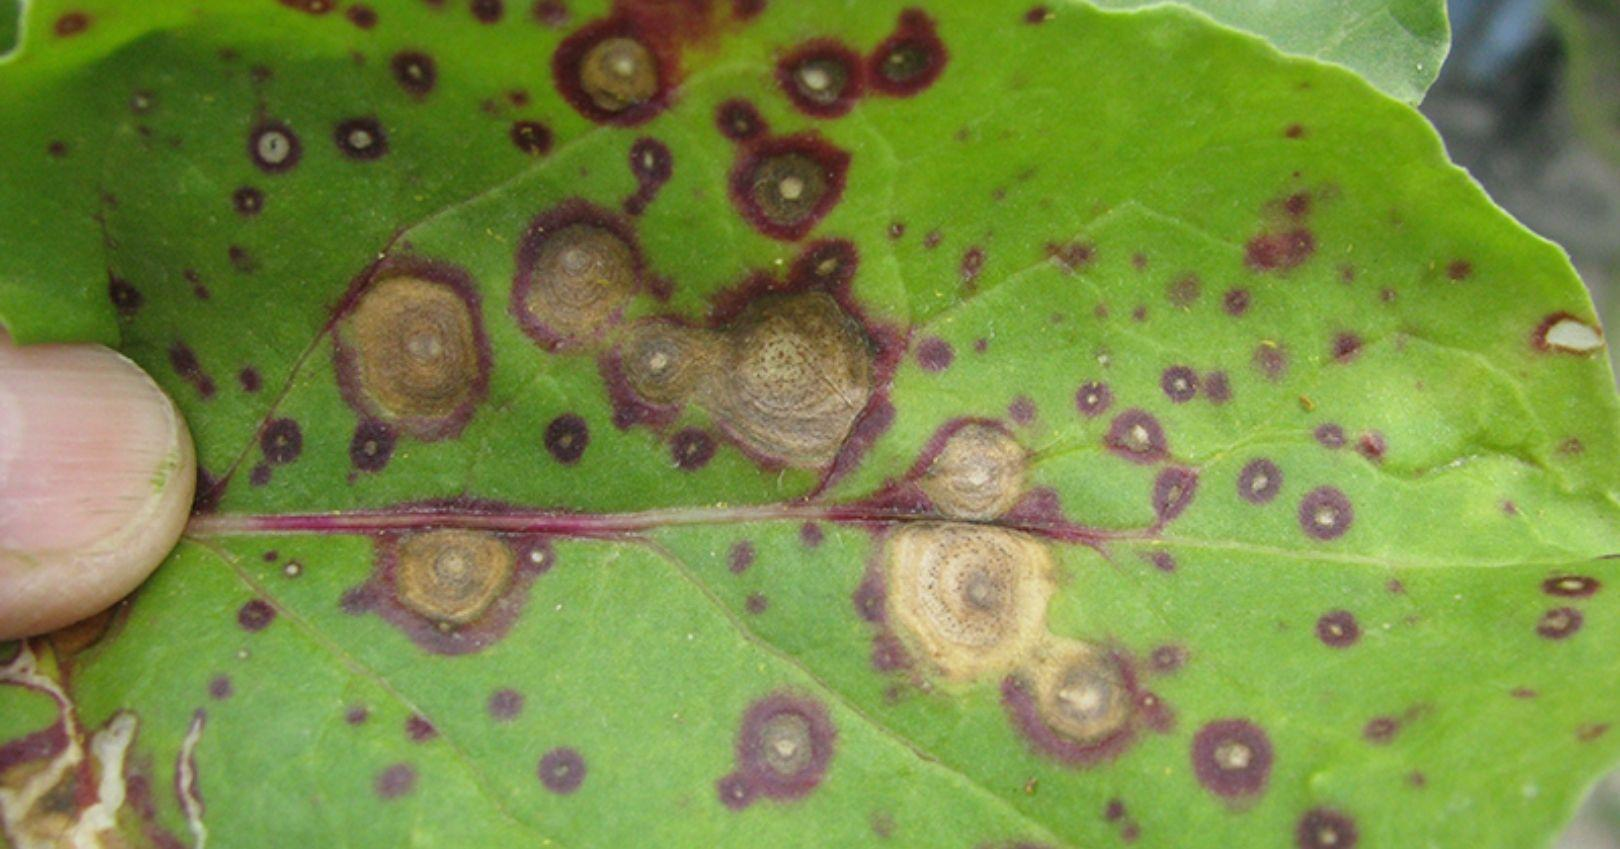black-spot: (219, 6, 1234, 849)
